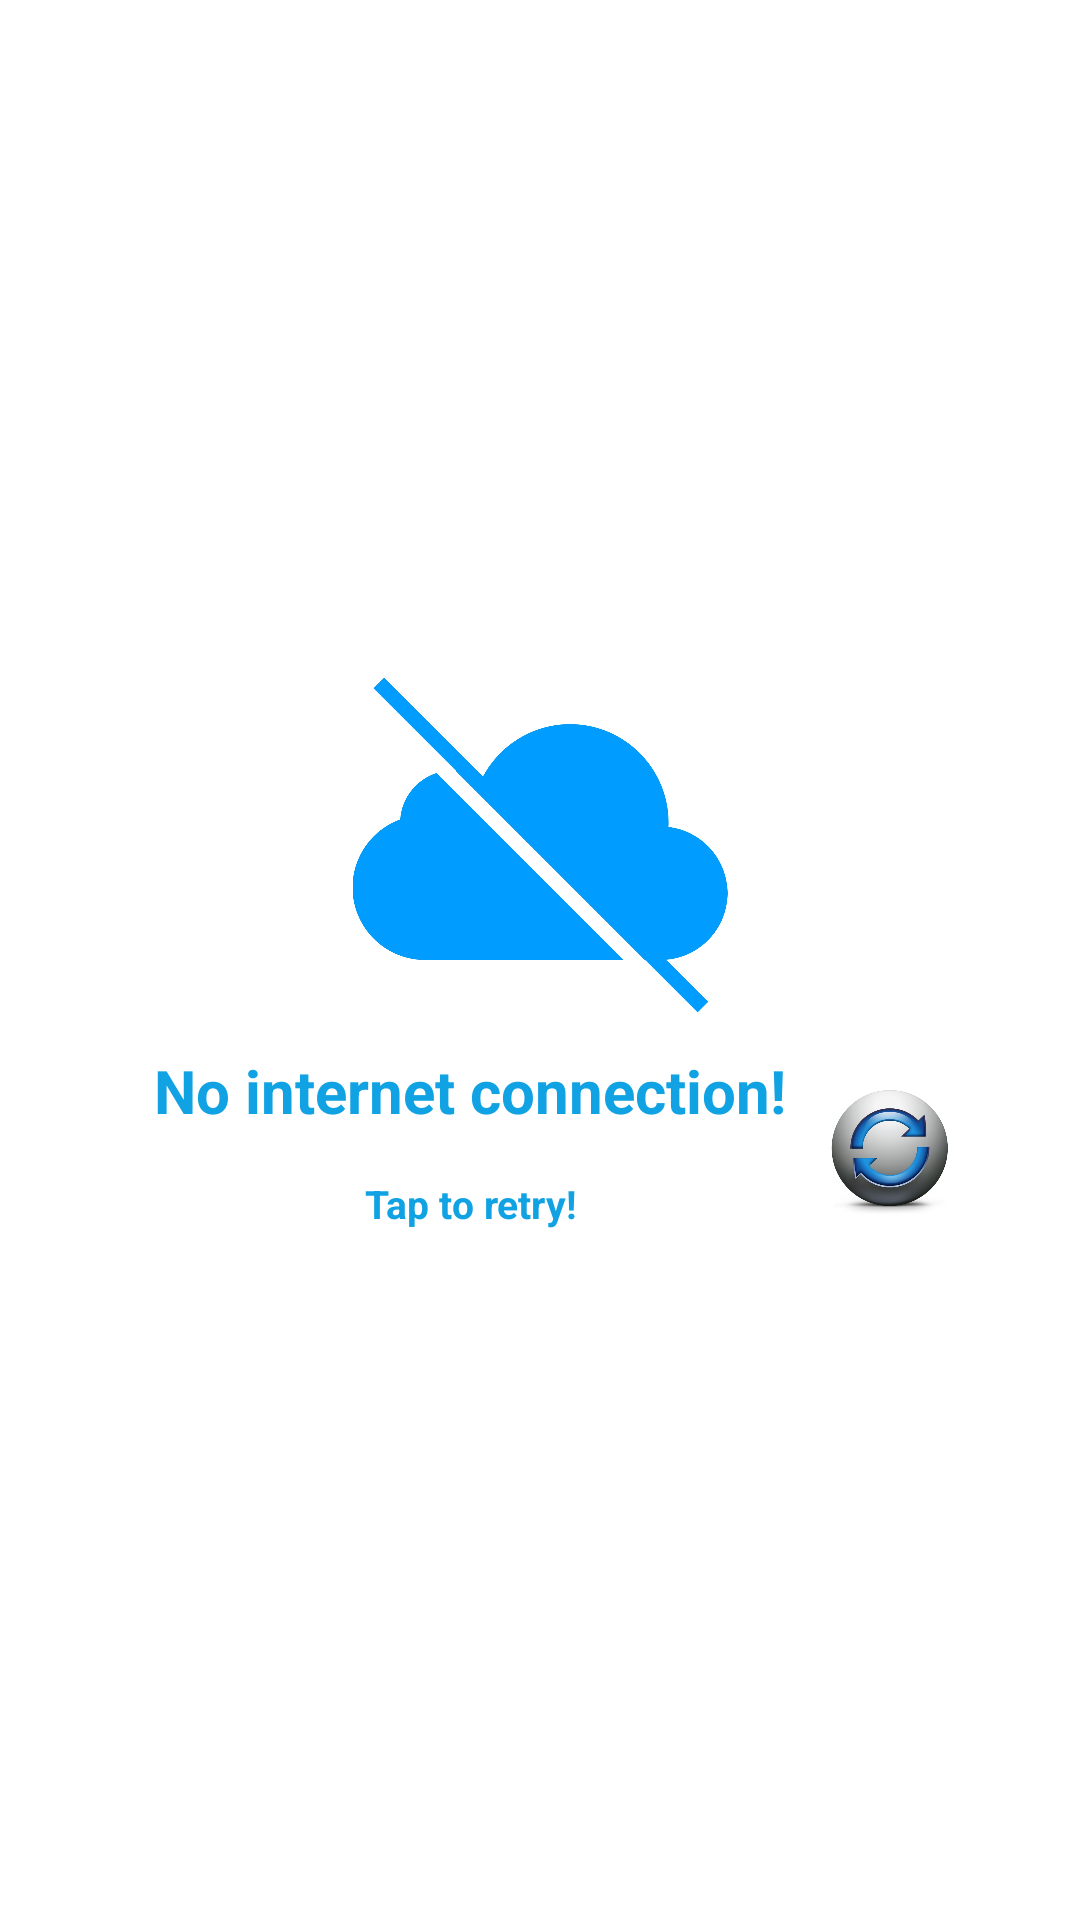

Icons on this 1080w x 1920h Android screen, each with the point to tap as [x,y]:
reload: [889,1150]
